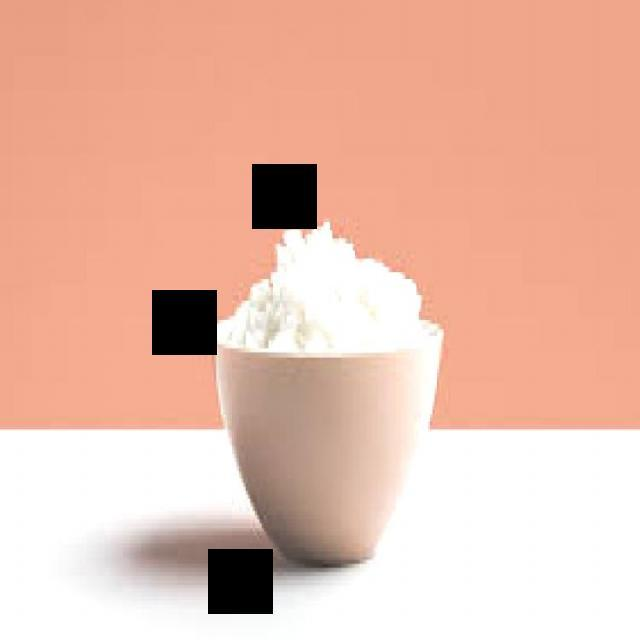rice: (223, 218, 428, 354)
